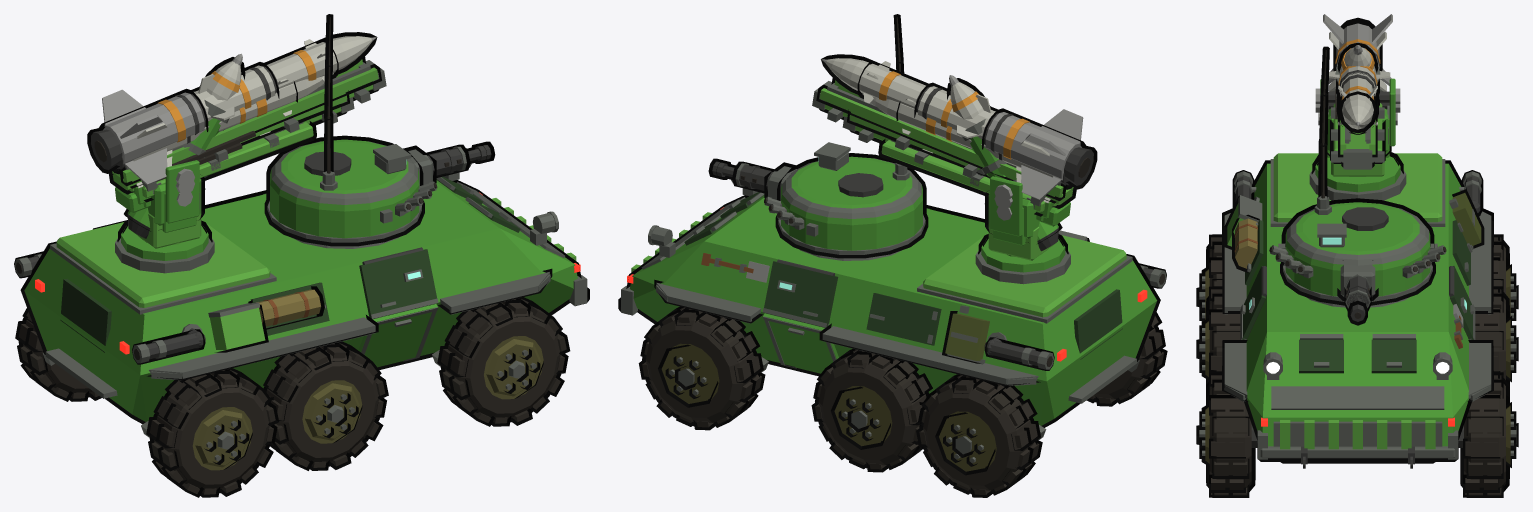
Rendered from ratel_btr.glb.
3 views of the same model, side by side, from view 1: azimuth 30°, elevation 25°; view 2: azimuth 150°, elevation 25°; view 3: azimuth 270°, elevation 25° (orthographic). The views are drawn at different scales.
Parts seen in each view (by area): view 1: BTR_Hull, BTR_Wheel_R3, BTR_Wheel_R1, BTR_Wheel_R2, BTR_TurretBody, BTR_LauncherDeck, BTR_SideLedge-1, BTR_SideHatch-1, BTR_StageMissile1, BTR_StageLauncherRail-1, BTR_Wheel_L3, BTR_Ramp-1 (+32 smaller); view 2: BTR_Hull, BTR_Wheel_L3, BTR_Wheel_L1, BTR_Wheel_L2, BTR_TurretBody, BTR_LauncherDeck, BTR_SideLedge1, BTR_SideHatch1, BTR_StageLauncherRail1, BTR_StageMissile1, BTR_SideDoor1, BTR_Wheel_R3 (+30 smaller); view 3: BTR_Hull, BTR_TurretBody, BTR_Wheel_R1, BTR_Wheel_L1, BTR_LauncherDeck, BTR_GlacisPlate, BTR_Bumper, BTR_GrilleBack, BTR_Wheel_R2, BTR_Wheel_L2, BTR_SideLedge1, BTR_DriverHatch1 (+34 smaller).
Boxes of the visible parts, x1,y1,x2,y2 form: BTR_Hull: [20, 180, 581, 424]; BTR_Wheel_R3: [146, 368, 278, 497]; BTR_Wheel_R1: [437, 297, 570, 426]; BTR_Wheel_R2: [263, 341, 388, 470]; BTR_TurretBody: [266, 135, 423, 238]; BTR_LauncherDeck: [56, 220, 270, 307]; BTR_SideLedge-1: [147, 315, 378, 380]; BTR_SideHatch-1: [359, 249, 437, 319]; BTR_StageMissile1: [99, 88, 208, 170]; BTR_StageLauncherRail-1: [119, 64, 381, 186]; BTR_Wheel_L3: [15, 308, 101, 401]; BTR_Ramp-1: [358, 304, 437, 367]; BTR_Hull: [626, 195, 1160, 427]; BTR_Wheel_L3: [916, 374, 1042, 497]; BTR_Wheel_L1: [638, 306, 765, 430]; BTR_Wheel_L2: [811, 348, 932, 472]; BTR_TurretBody: [777, 153, 926, 250]; BTR_LauncherDeck: [923, 233, 1126, 317]; BTR_SideLedge1: [819, 323, 1040, 385]; BTR_SideHatch1: [763, 261, 838, 327]; BTR_StageLauncherRail1: [816, 84, 1066, 201]; BTR_StageMissile1: [982, 108, 1086, 186]; BTR_SideDoor1: [866, 293, 941, 345]; BTR_Wheel_R3: [1086, 312, 1167, 406]; BTR_Hull: [1243, 160, 1472, 463]; BTR_TurretBody: [1281, 198, 1434, 296]; BTR_Wheel_R1: [1196, 372, 1255, 497]; BTR_Wheel_L1: [1460, 372, 1518, 497]; BTR_LauncherDeck: [1273, 153, 1442, 222]; BTR_GlacisPlate: [1271, 386, 1444, 409]; BTR_Bumper: [1257, 443, 1458, 461]; BTR_GrilleBack: [1273, 421, 1442, 446]; BTR_Wheel_R2: [1196, 286, 1240, 386]; BTR_Wheel_L2: [1475, 286, 1518, 390]; BTR_SideLedge1: [1469, 208, 1493, 313]; BTR_DriverHatch1: [1371, 339, 1416, 373].
Size of the model in its own units: 6.19 by 4.92 by 3.72.
